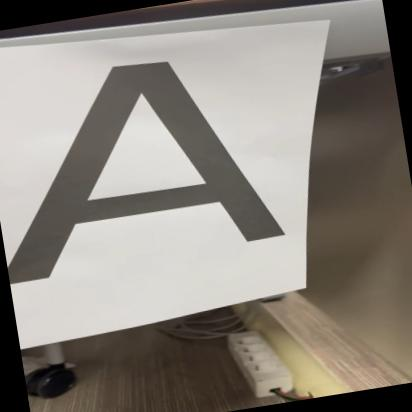seat: (0, 37, 297, 285)
